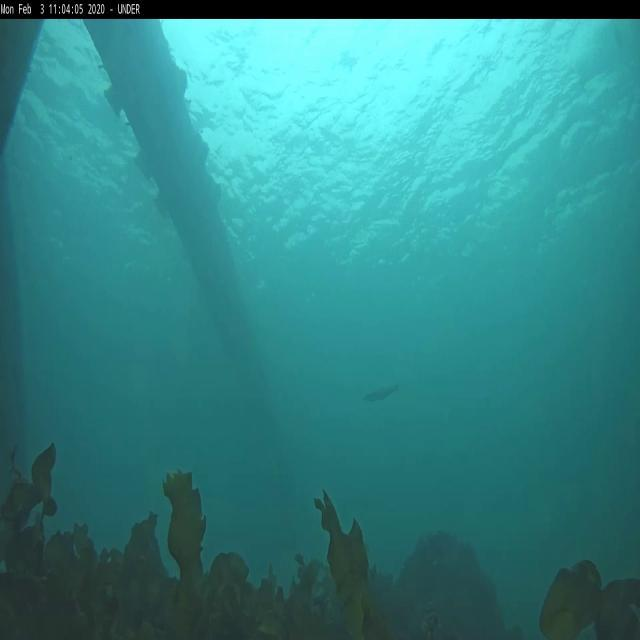fish: (364, 382, 399, 404)
